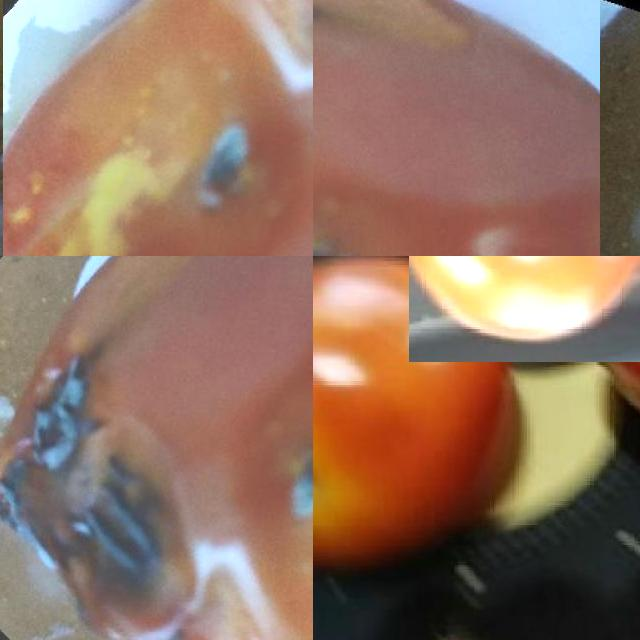Fresh Tomato: (313, 256, 524, 605), (409, 256, 640, 362)
Rotten Tomato: (0, 256, 313, 640), (3, 0, 313, 256), (313, 0, 600, 256)
